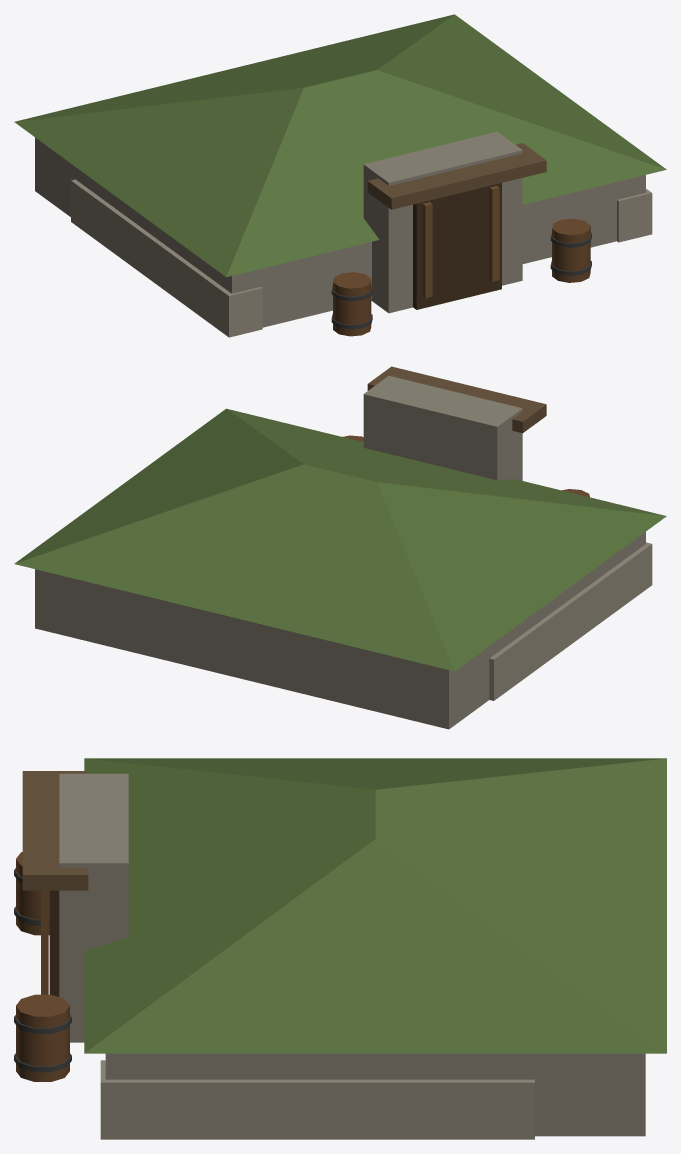
The model's file is procedural_cellar@4.glb.
The picture shows the model from 3 angles, top to bottom: view 1: azimuth 30°, elevation 25°; view 2: azimuth 150°, elevation 25°; view 3: azimuth 270°, elevation 25°; orthographic projection. The views are drawn at different scales.
Visible parts, largest first — view 1: part_0; view 2: part_0; view 3: part_0.
Part boxes in pixels (x1=…): part_0: x1=14, y1=14, x2=666, y2=337; part_0: x1=14, y1=366, x2=666, y2=729; part_0: x1=14, y1=758, x2=666, y2=1139.
Size of the model in its own units: 7.24 by 2.1 by 6.77.
